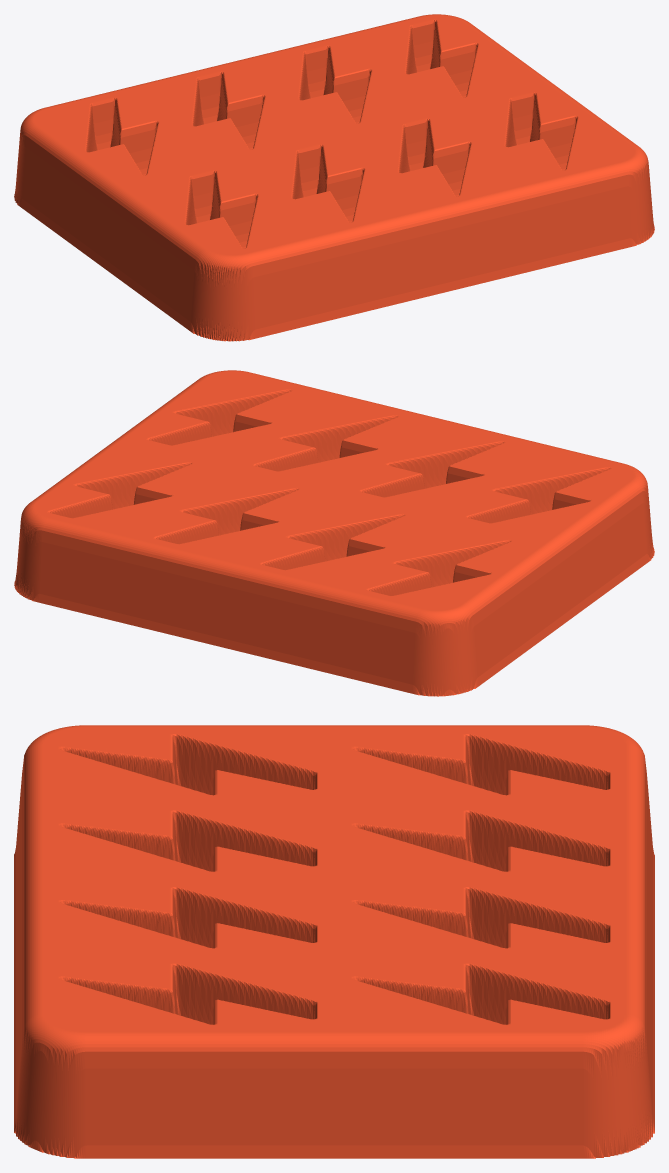
File: mold.glb
3 renders of one model, top to bottom at view 1: azimuth 30°, elevation 25°; view 2: azimuth 150°, elevation 25°; view 3: azimuth 270°, elevation 25°, orthographic. The views are drawn at different scales.
Parts seen in each view (by area): view 1: geometry_0; view 2: geometry_0; view 3: geometry_0.
Part boxes in pixels (<box>): geometry_0: <box>14,14,654,341</box>; geometry_0: <box>14,370,654,696</box>; geometry_0: <box>14,725,654,1158</box>.
Size of the model in its own units: 0.0984 by 0.0159 by 0.0809.
